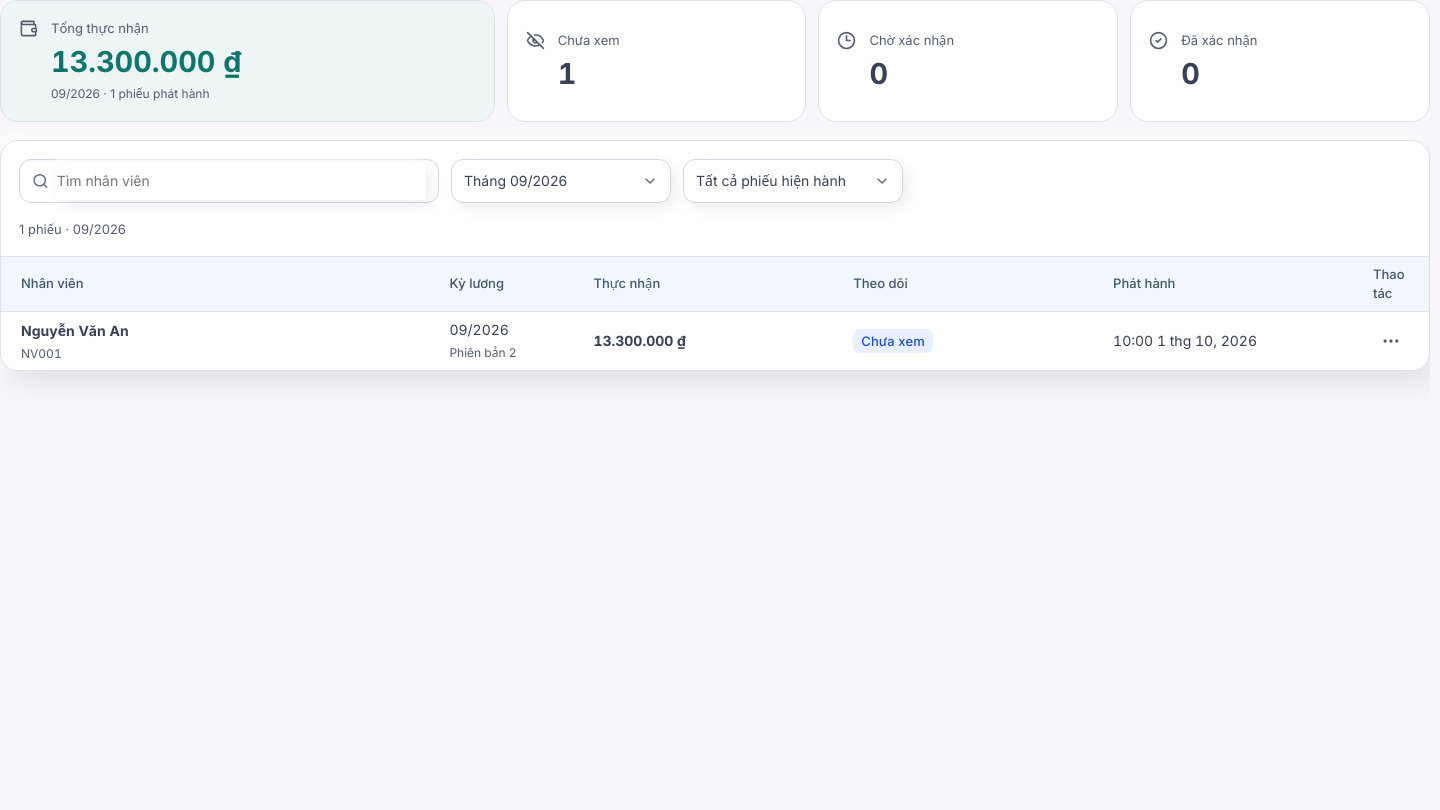
it: payslip worklist › preserves the revoke reason and shows a local error when saving fails
This screenshot has width=1440, height=810.
Click the button named "Thao tác phiếu lương Nguyễn Văn An" at (1391, 341), box [1373,323,1409,359]
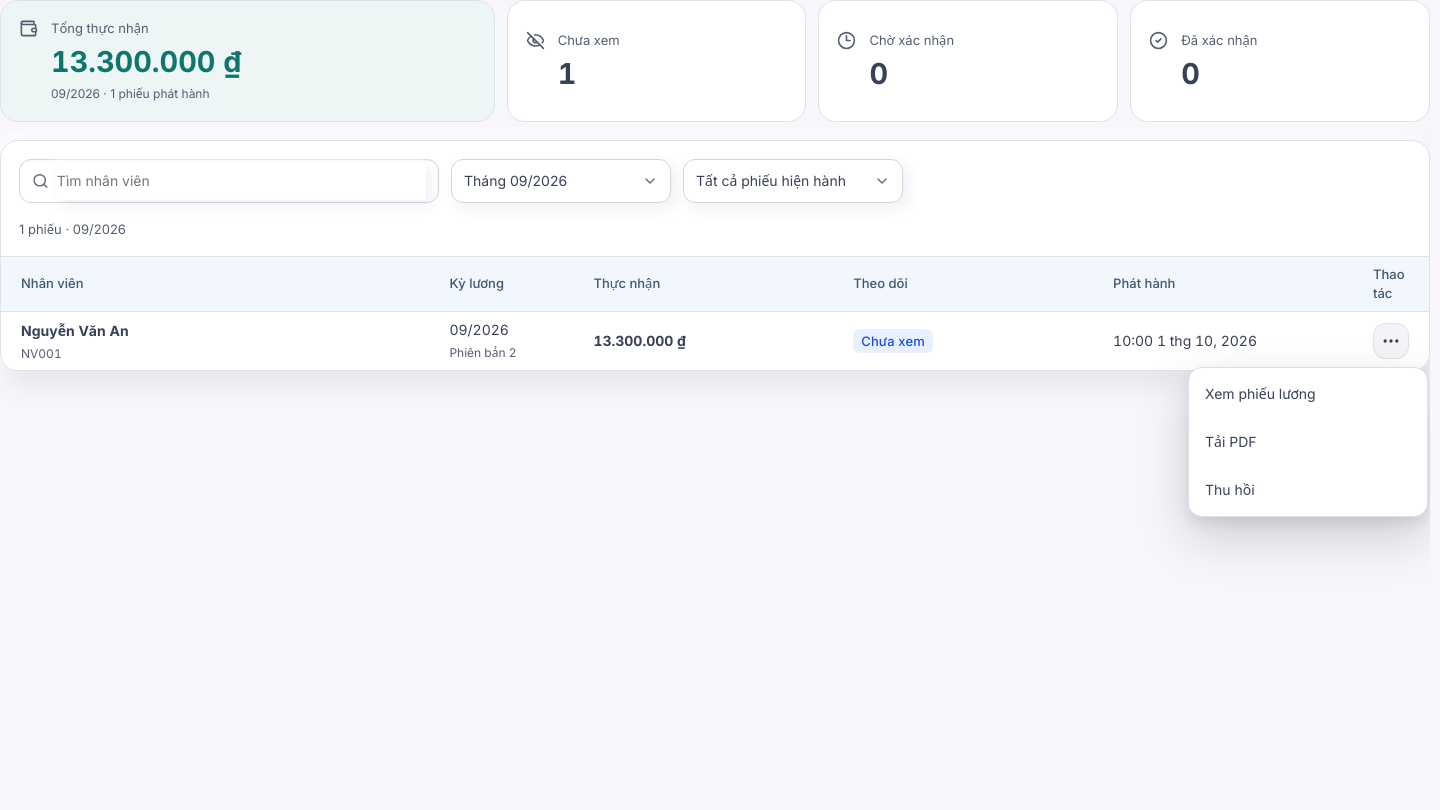
Click the menu item "Thu hồi" at (1308, 490), box [1193,468,1423,512]
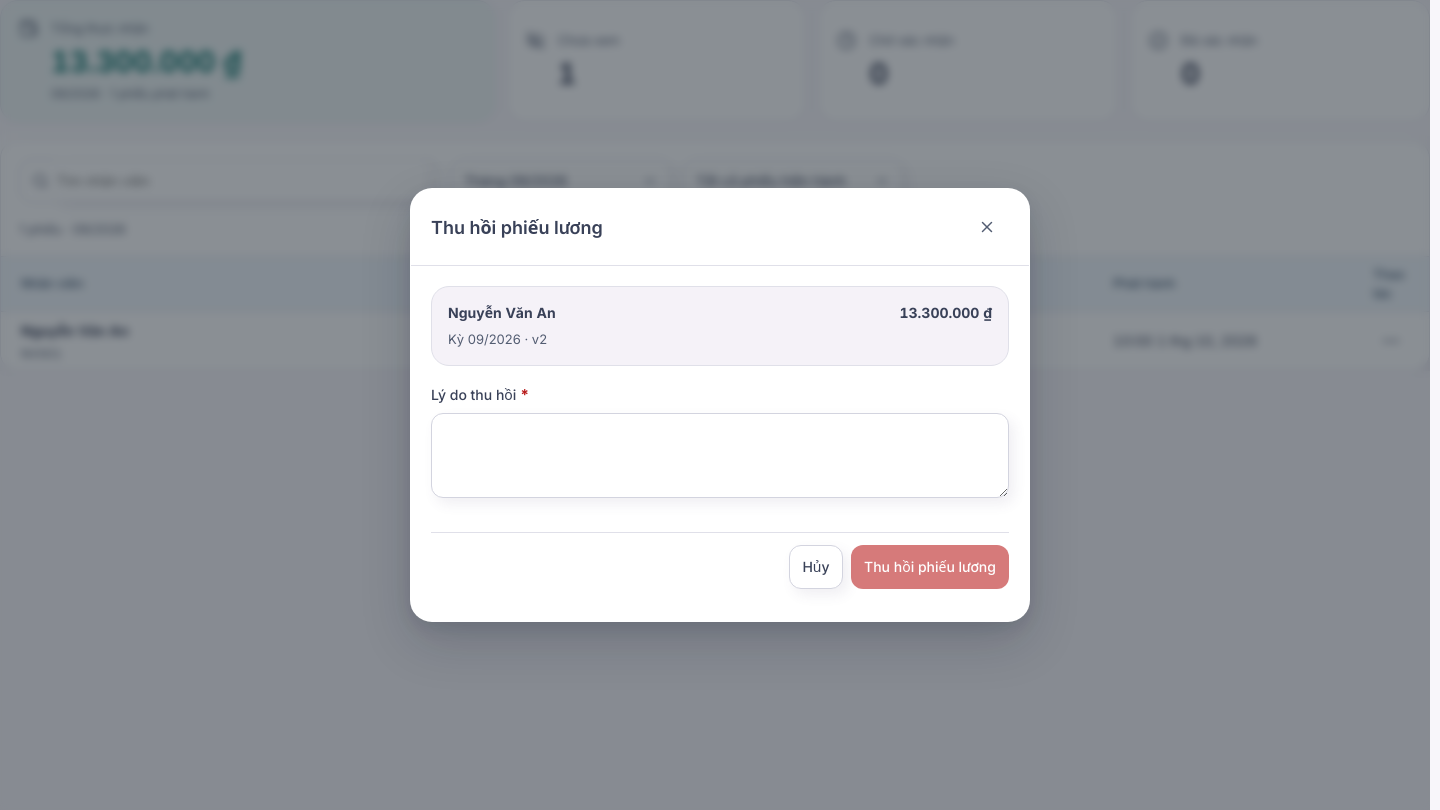
Type "Điều chỉnh phụ cấp" into the text box labelled "Lý do thu hồi" at (720, 455), box [431,413,1009,498]
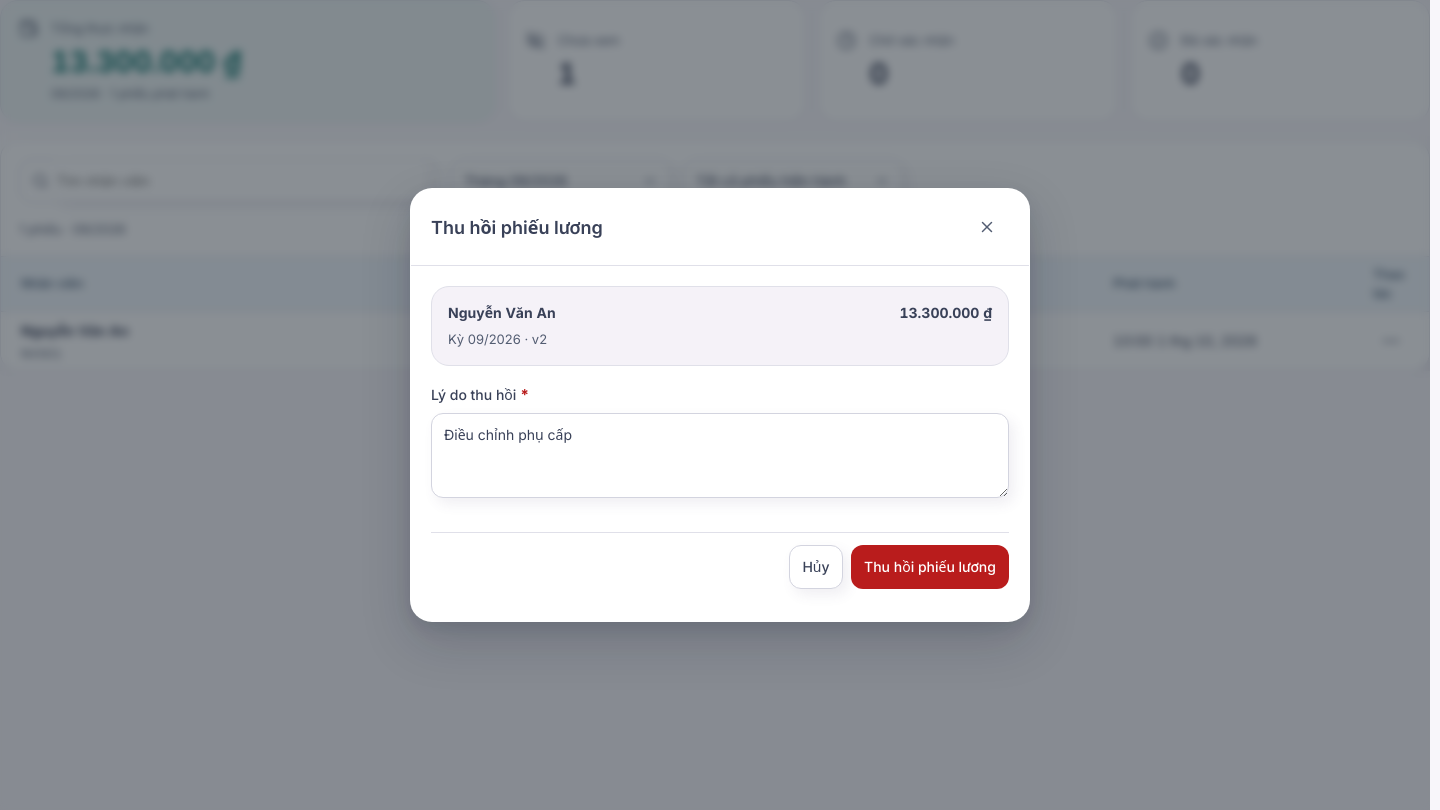
Submit the form, box [411,266,1029,620]
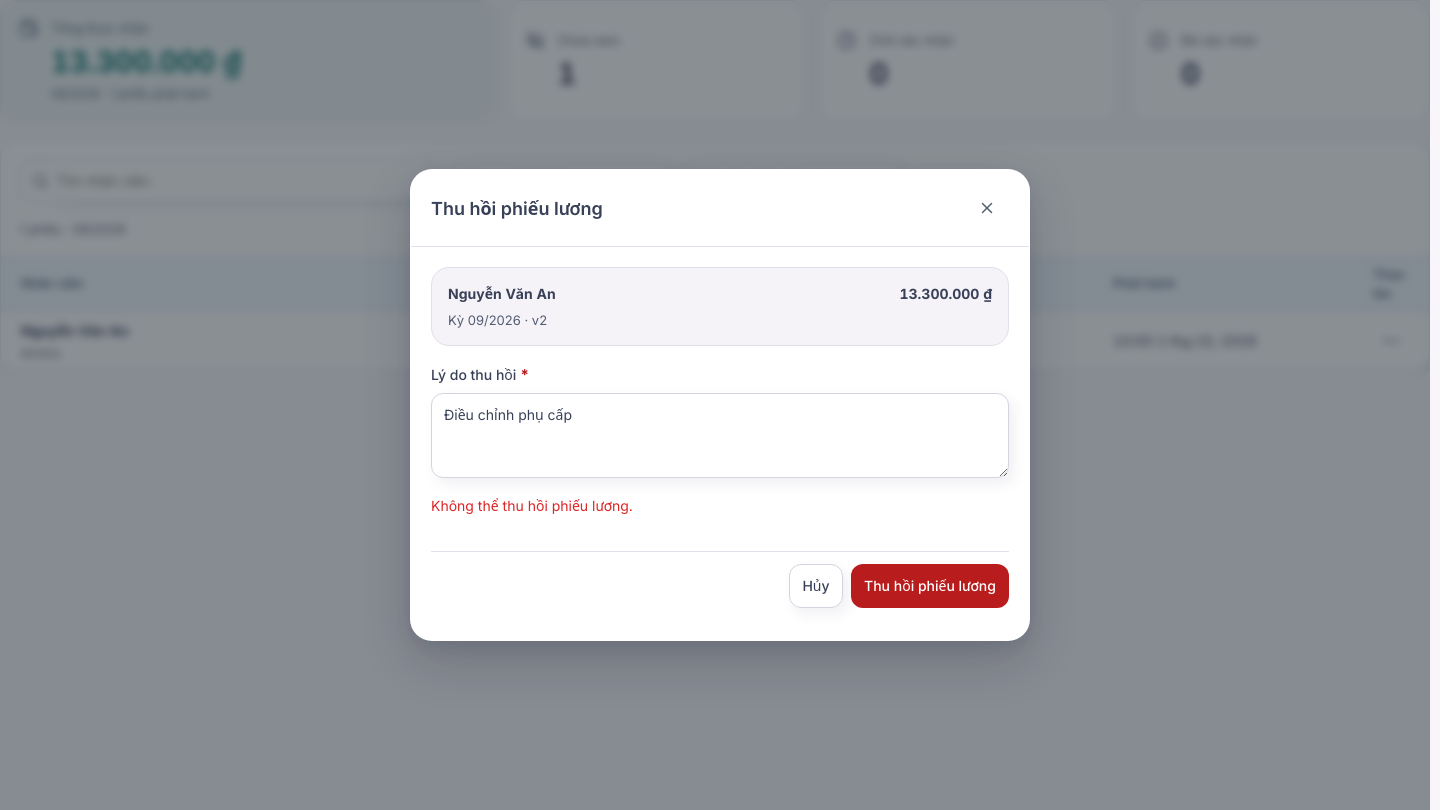
expect the button "Thu hồi phiếu lương" is enabled: met, box [851,564,1009,608]
expect the message reads "Không thể thu hồi phiếu lương.": met, box [431,497,633,514]
